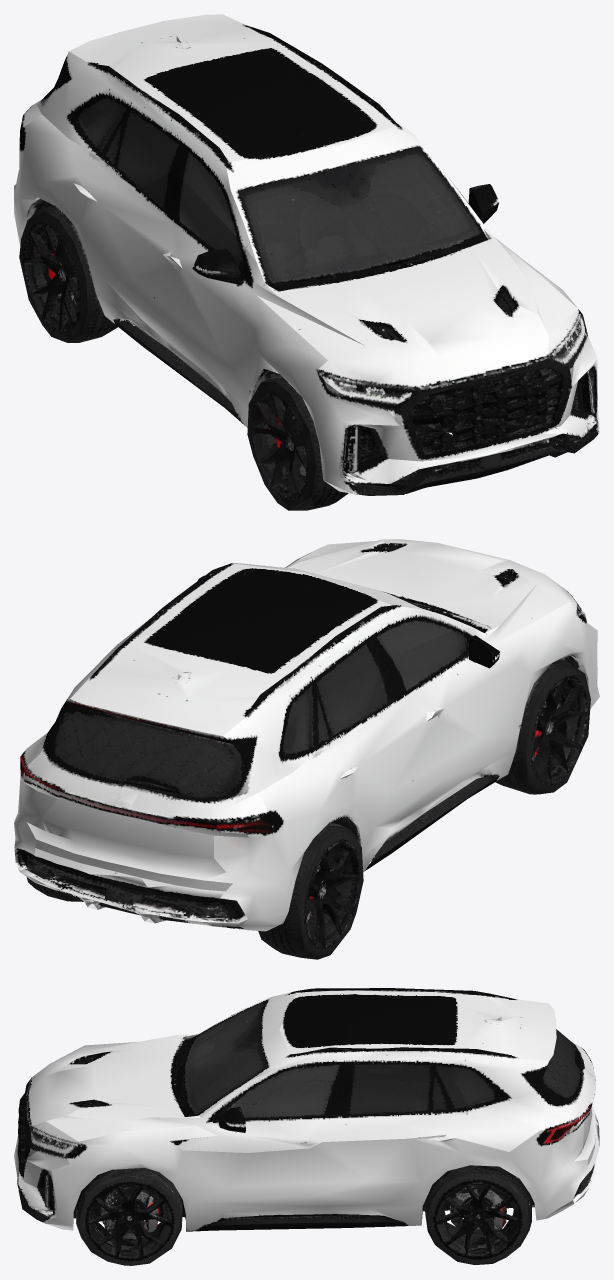
Rendered from suv_lod.glb.
The picture shows the model from 3 angles, top to bottom: view 1: azimuth 30°, elevation 25°; view 2: azimuth 150°, elevation 25°; view 3: azimuth 270°, elevation 25°; orthographic projection. The views are drawn at different scales.
Parts seen in each view (by area): view 1: geometry_0; view 2: geometry_0; view 3: geometry_0.
Part boxes in pixels (bbox=[...]): geometry_0: bbox=[14, 14, 599, 510]; geometry_0: bbox=[14, 539, 599, 959]; geometry_0: bbox=[14, 988, 599, 1265].
Bounding box in the file's own units: 0.457 × 0.3776 × 1.
1 material, 1 textured.
